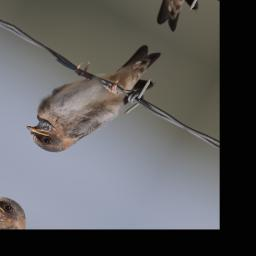Swallow: (18, 13, 171, 182)
